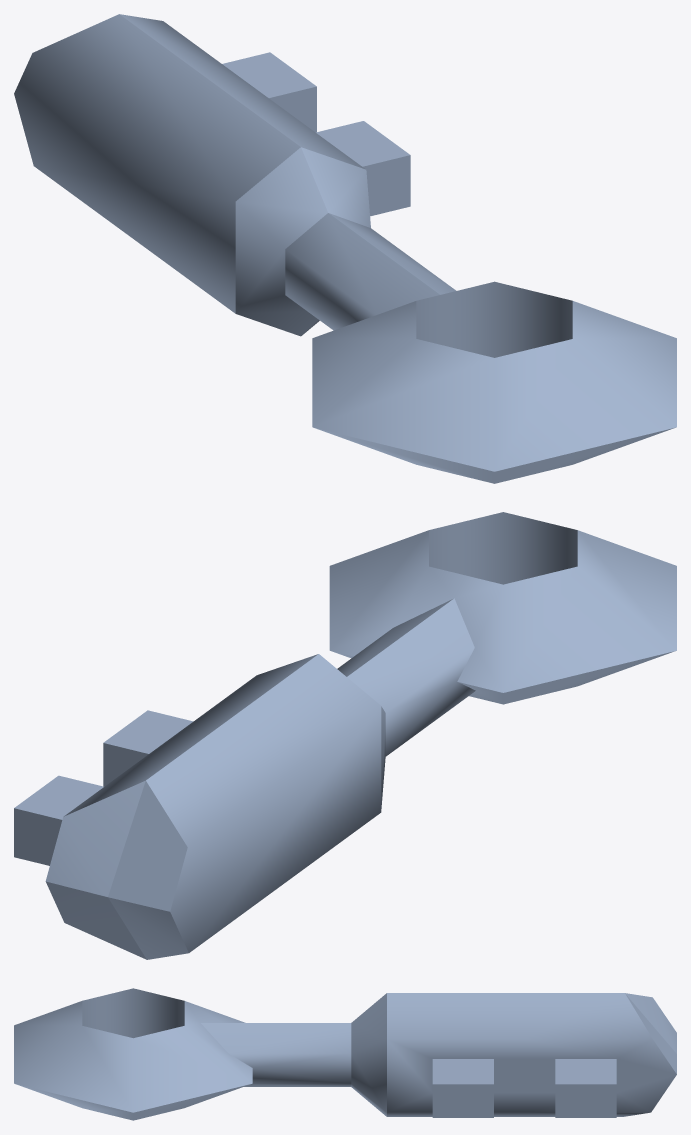
Rendered from Key_Silver.fbx.
3 views of the same model, one above another, from view 1: azimuth 30°, elevation 25°; view 2: azimuth 150°, elevation 25°; view 3: azimuth 270°, elevation 25° (orthographic). The views are drawn at different scales.
Visible parts, largest first — view 1: Key_Silver; view 2: Key_Silver; view 3: Key_Silver.
Part boxes in pixels (x1,y1,x2,y2): Key_Silver: (14, 14, 676, 483); Key_Silver: (14, 512, 676, 959); Key_Silver: (14, 988, 676, 1120).
Size of the model in its own units: 0.21 by 0.505 by 0.1042.
